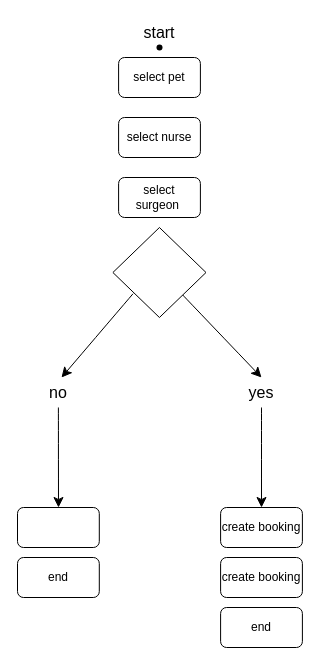
Some shapes in this 320 by 665 pixel diagram are drawn without their labels. The shapes that lost their labels are listed below. From the top down, each one's centre as x and y in pixels, then its label:
point 159,272: staff available ?
point 57,527: display error
